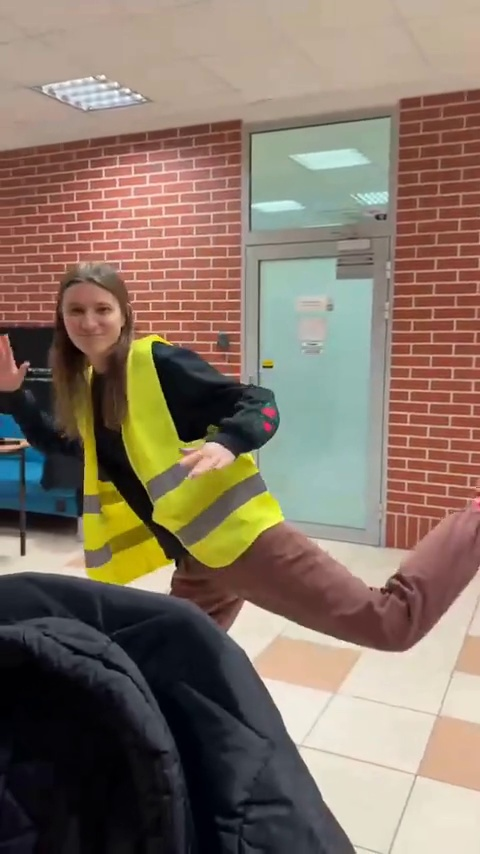vest: (39, 256, 426, 646)
